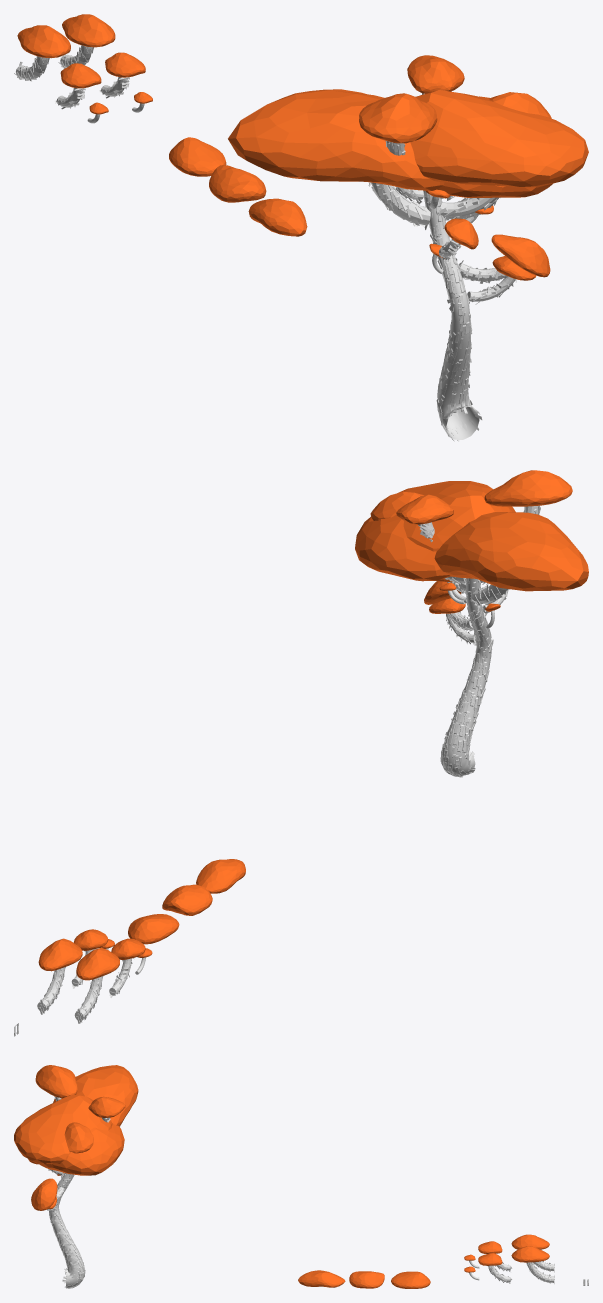
Rendered from tree.fbx.
The picture shows the model from 3 angles, top to bottom: view 1: azimuth 30°, elevation 25°; view 2: azimuth 150°, elevation 25°; view 3: azimuth 270°, elevation 25°; orthographic projection. The views are drawn at different scales.
Parts seen in each view (by area): view 1: arbre essaie, branche 1.002, branche 1.001, Icosphere.002, Icosphere.001, Icosphere, branche 2.001, branche 2; view 2: arbre essaie, branche 1.002, branche 1.001, Icosphere.002, Icosphere.001, Icosphere, branche 2.001; view 3: arbre essaie, branche 1.001, Icosphere.002, Icosphere, branche 1.002, Icosphere.001, branche 2, branche 2.001.
Boxes of the visible parts, x1,y1,x2,y2 form: arbre essaie: (228, 55, 588, 441); branche 1.002: (14, 25, 70, 81); branche 1.001: (58, 14, 115, 68); Icosphere.002: (248, 198, 307, 236); Icosphere.001: (209, 165, 266, 202); Icosphere: (169, 137, 226, 176); branche 2.001: (54, 63, 101, 109); branche 2: (99, 52, 145, 98); arbre essaie: (355, 470, 588, 777); branche 1.002: (74, 947, 119, 1023); branche 1.001: (37, 938, 82, 1014); Icosphere.002: (196, 859, 245, 893); Icosphere.001: (162, 884, 212, 915); Icosphere: (128, 914, 179, 944); branche 2.001: (109, 938, 145, 997); arbre essaie: (14, 1065, 138, 1288); branche 1.001: (511, 1246, 554, 1283); Icosphere.002: (298, 1270, 345, 1287); Icosphere: (391, 1271, 430, 1288); branche 1.002: (511, 1234, 554, 1272); Icosphere.001: (349, 1271, 384, 1288); branche 2: (478, 1253, 511, 1283); branche 2.001: (478, 1241, 511, 1271).
Bounding box in the file's own units: 916 × 1099 × 2850.
